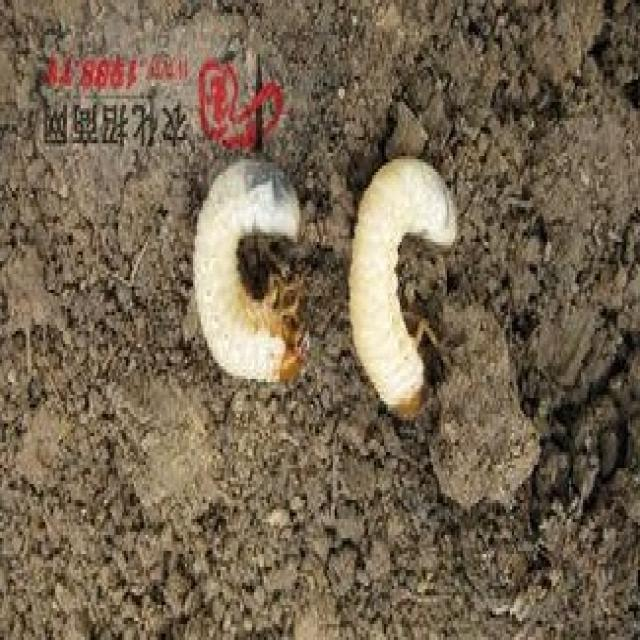grub: (349, 159, 469, 423), (184, 157, 314, 399)
